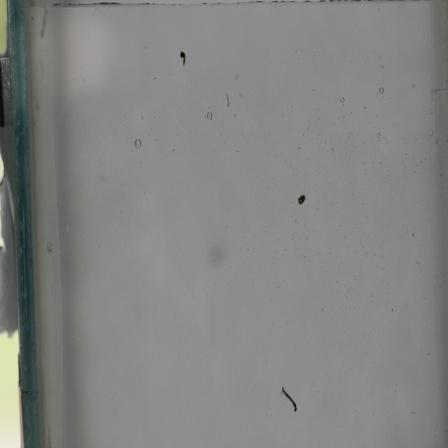Jentik-Nyamuk: (277, 384, 299, 417), (293, 191, 308, 210), (175, 49, 188, 67)
